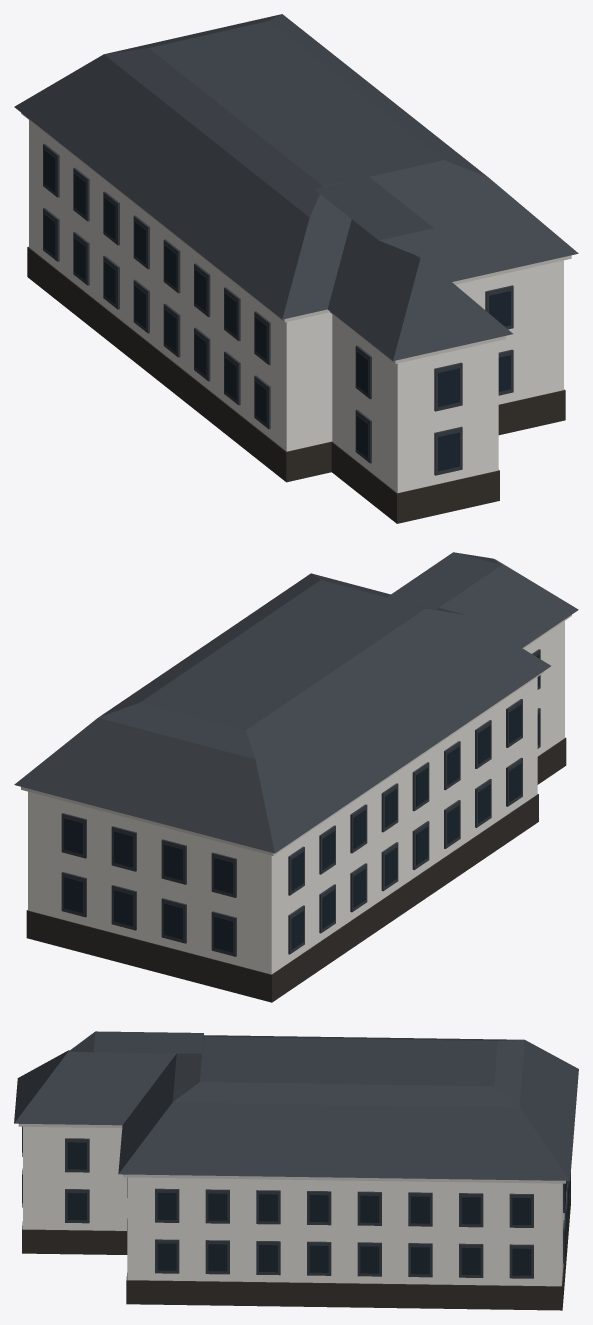
The model's file is haus-ludwig.glb.
3 renders of one model, top to bottom at view 1: azimuth 30°, elevation 25°; view 2: azimuth 150°, elevation 25°; view 3: azimuth 270°, elevation 25°, orthographic. The views are drawn at different scales.
Visible parts, largest first — view 1: haus-ludwig_lod0; view 2: haus-ludwig_lod0; view 3: haus-ludwig_lod0.
Boxes of the visible parts, x1=… form: haus-ludwig_lod0: x1=14, y1=14, x2=578, y2=523; haus-ludwig_lod0: x1=14, y1=552, x2=578, y2=1002; haus-ludwig_lod0: x1=14, y1=1031, x2=578, y2=1310.
Size of what is drawn, in the model's own units: 16.01 by 12.2 by 32.32.
